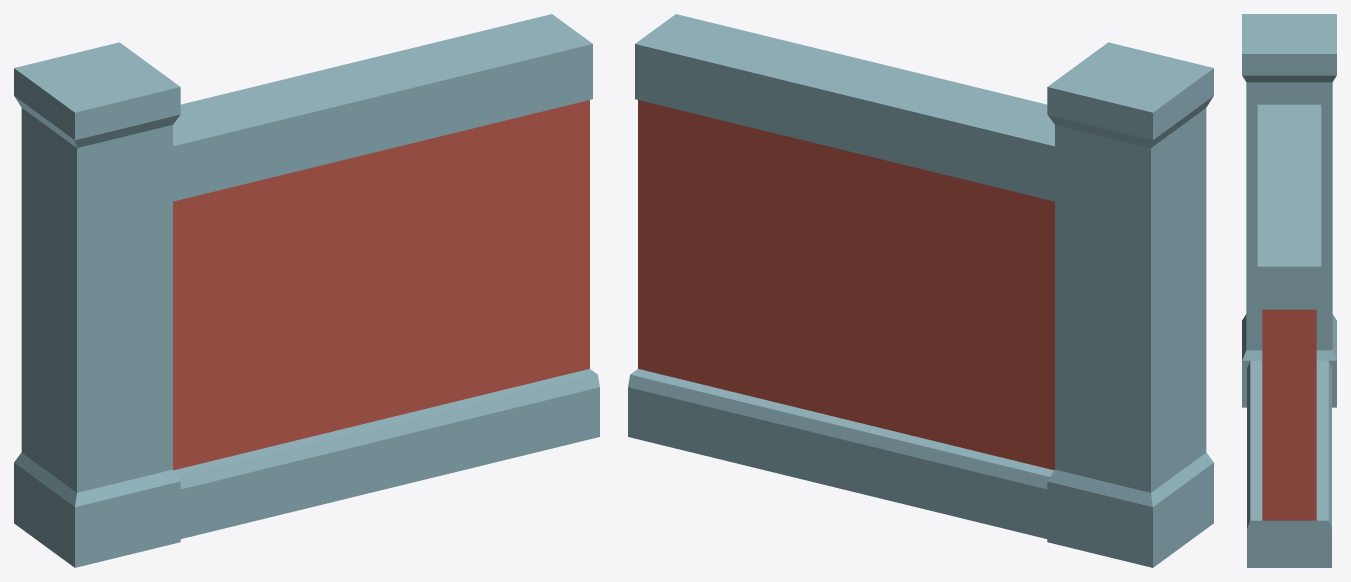
File: brickWallEnd.fbx
The picture shows the model from 3 angles, left to right: view 1: azimuth 30°, elevation 25°; view 2: azimuth 150°, elevation 25°; view 3: azimuth 270°, elevation 25°; orthographic projection. The views are drawn at different scales.
Parts seen in each view (by area): view 1: brickWallEnd; view 2: brickWallEnd; view 3: brickWallEnd.
Boxes of the visible parts, bbox=[...] form: brickWallEnd: bbox=[14, 14, 599, 567]; brickWallEnd: bbox=[628, 14, 1213, 567]; brickWallEnd: bbox=[1242, 14, 1336, 567].
Bounding box in the file's own units: 10 × 8.24 × 2.
